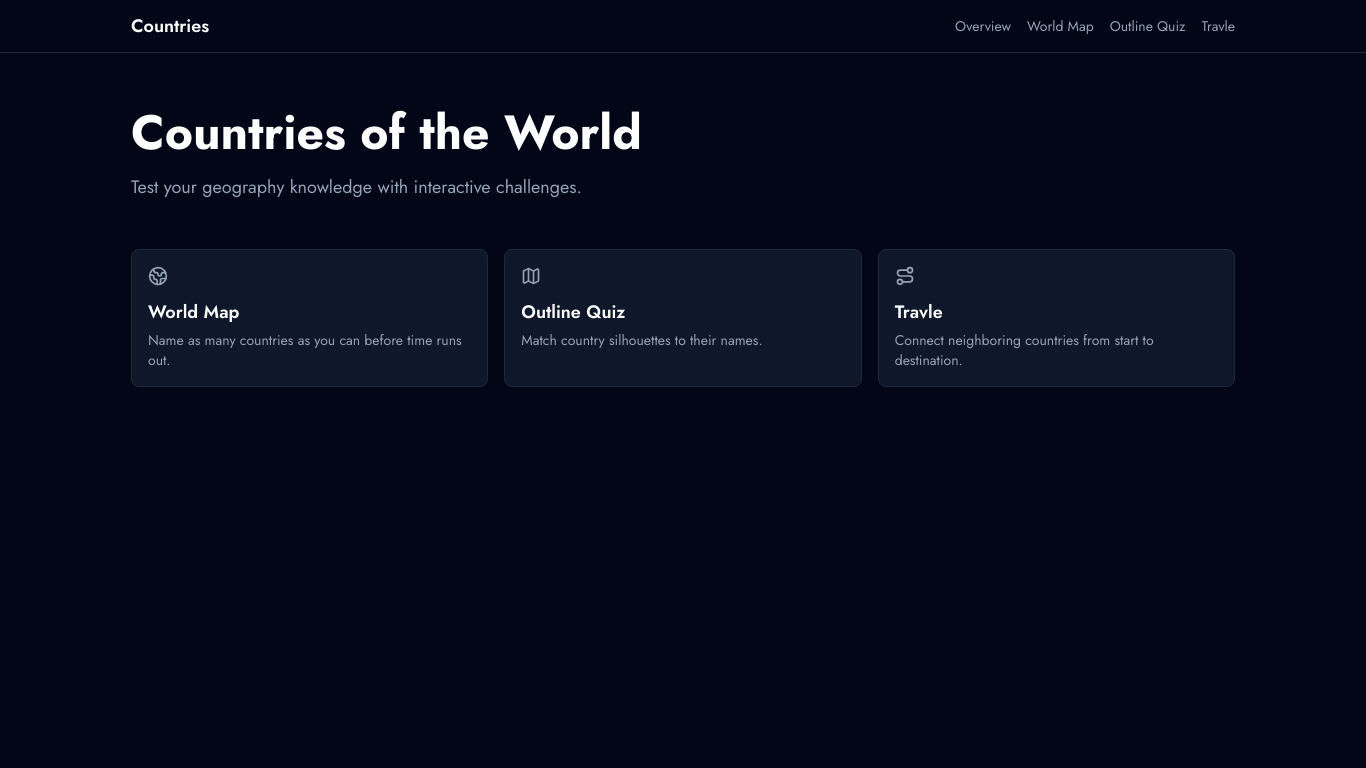
Test: OutlineGame › clears the hint when the country changes
This screenshot has width=1366, height=768.
What coordinates should you click on to do the following:
click the button "Outline Quiz Match country silhouettes to their names."
I would click on:
 (573, 312)
Its box is left=504, top=249, right=862, bottom=387.
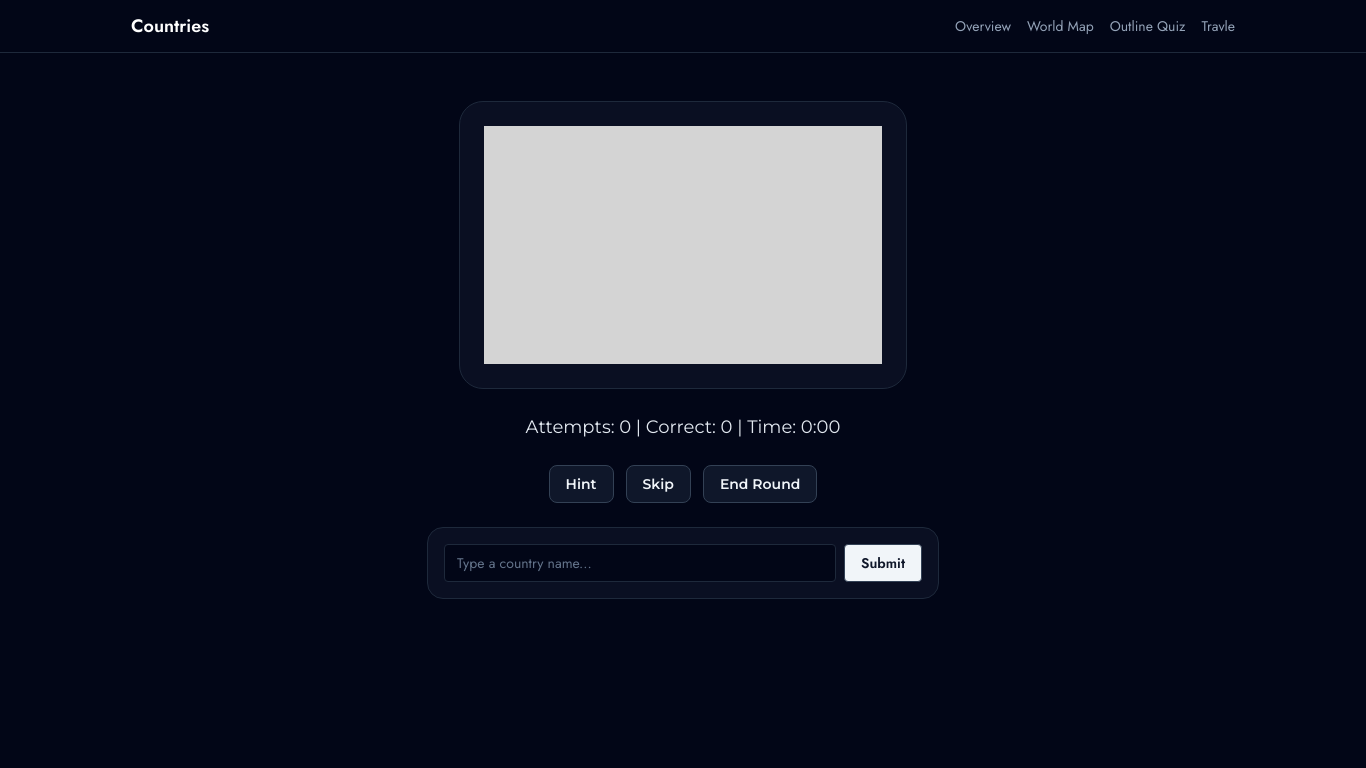
What coordinates should you click on to do the following:
click the button "Hint"
I would click on:
 (581, 484)
Its box is left=549, top=465, right=614, bottom=503.
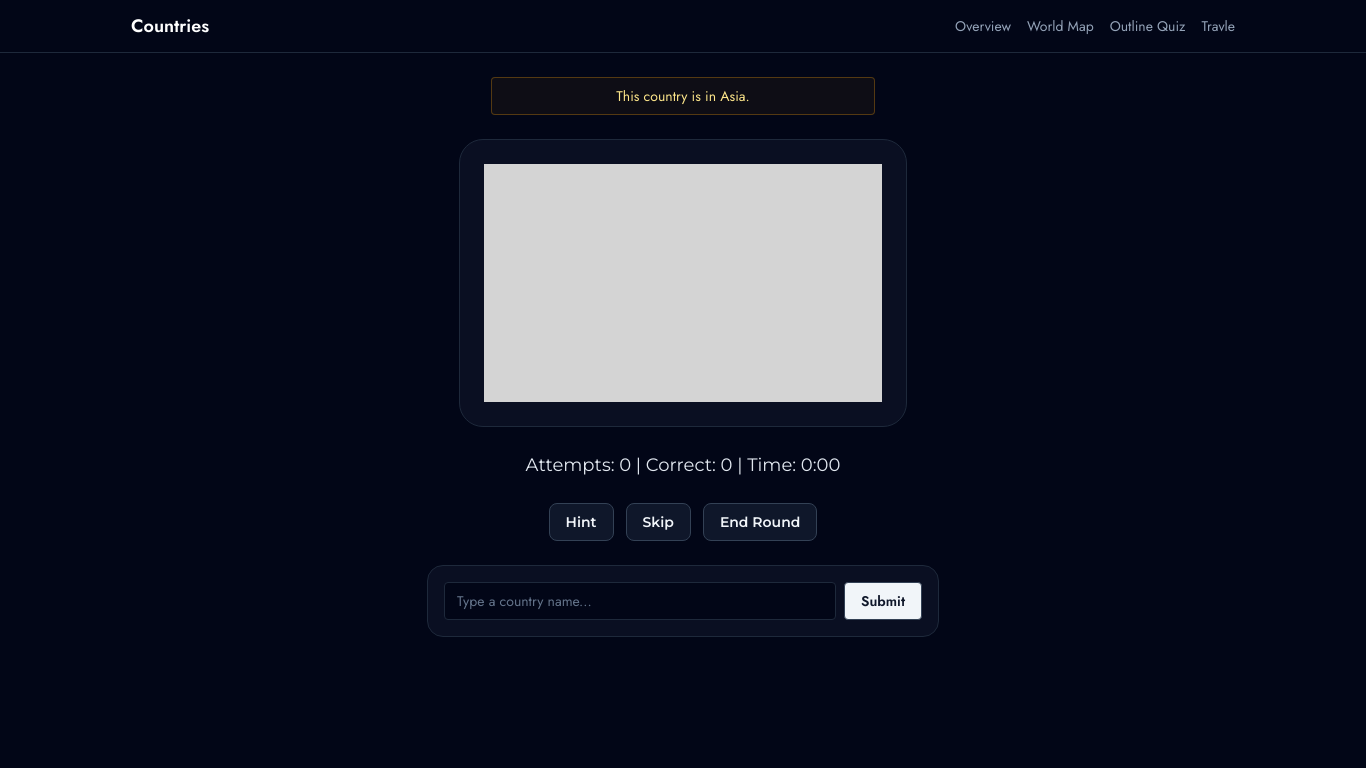
Check: the text "This country is in Asia." is shown, box left=491, top=77, right=875, bottom=115
What coordinates should you click on to do the following:
click the button "Skip"
I would click on:
 (658, 522)
Its box is left=626, top=503, right=691, bottom=541.
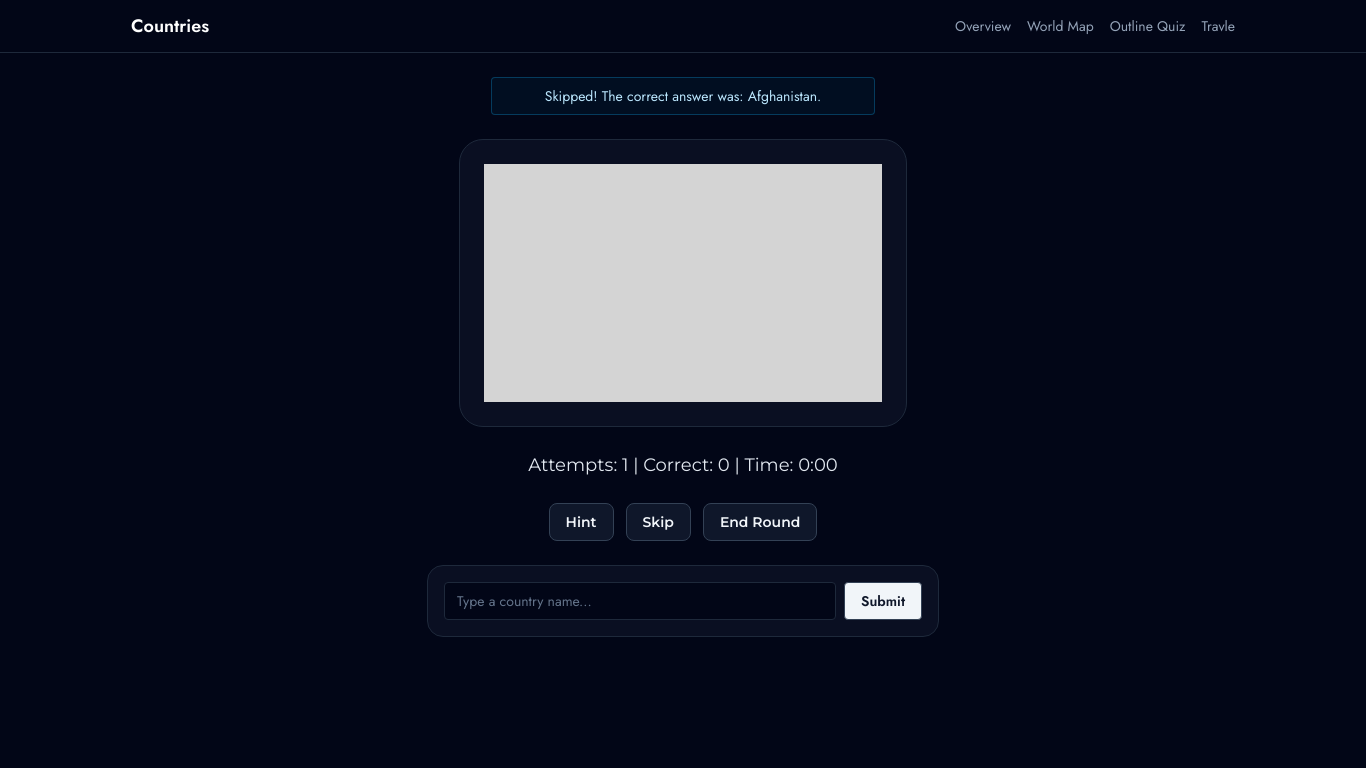
Check: the text "This country is in" is gone
